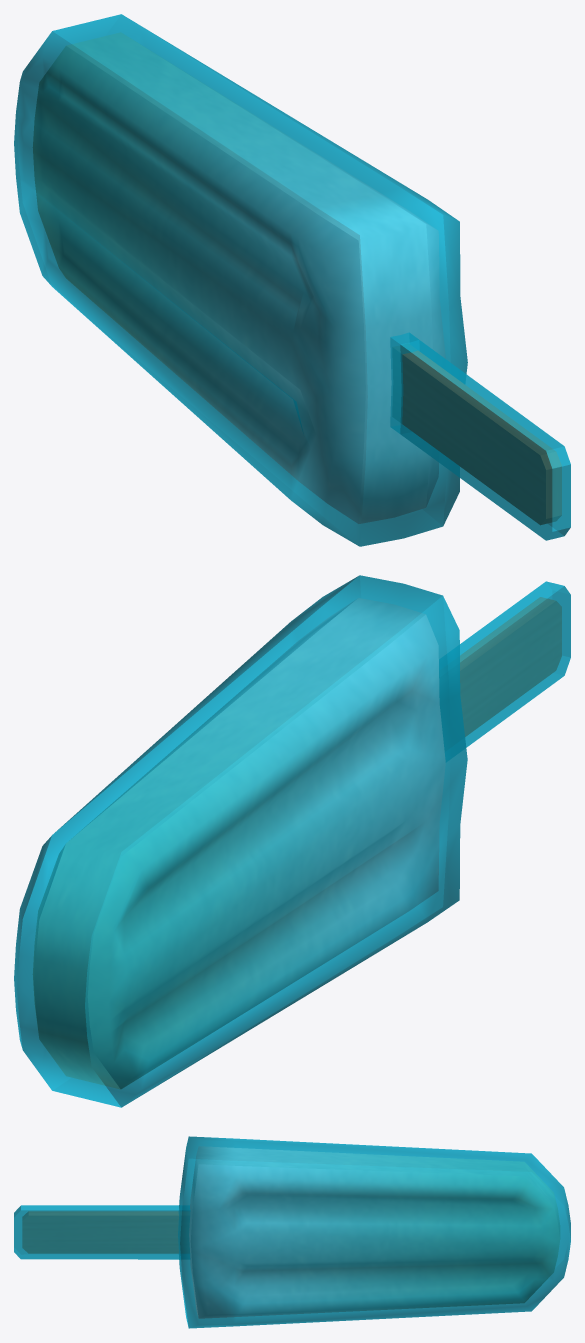
File: popsicle.fbx
The picture shows the model from 3 angles, top to bottom: view 1: azimuth 30°, elevation 25°; view 2: azimuth 150°, elevation 25°; view 3: azimuth 270°, elevation 25°; orthographic projection. The views are drawn at different scales.
Parts seen in each view (by area): view 1: popsicle; view 2: popsicle; view 3: popsicle.
Boxes of the visible parts, x1=… form: popsicle: x1=14, y1=14, x2=570, y2=546; popsicle: x1=14, y1=575, x2=570, y2=1107; popsicle: x1=14, y1=1136, x2=570, y2=1328.
Size of the model in its own units: 0.2219 by 0.4817 by 1.43.
